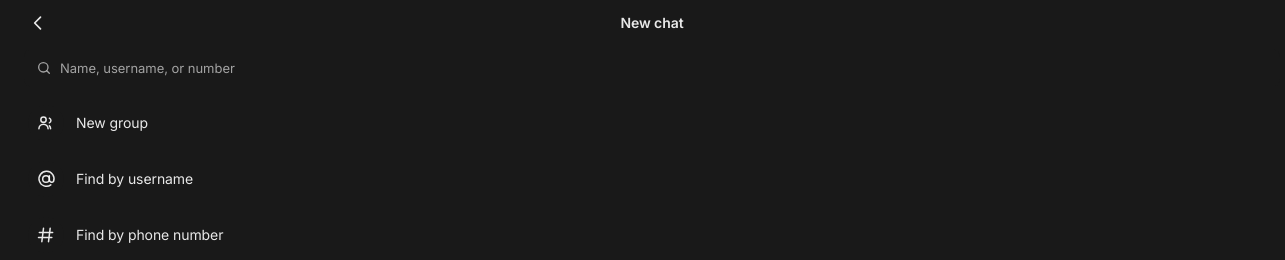
Test: NewChatPanel › searches all users once I type
Type "dave" into the field with placeholder "Name, username, or number" at {"x": 664, "y": 68}, box [60,55,1268,81]
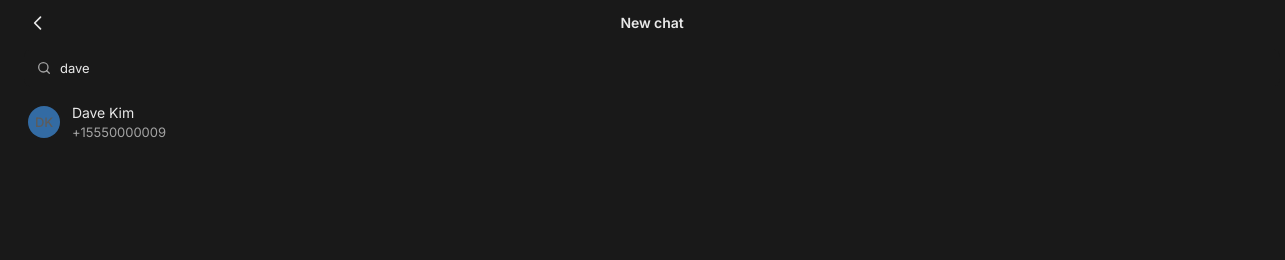
Expected: the text "Dave Kim" is shown, [72,104,134,121]
